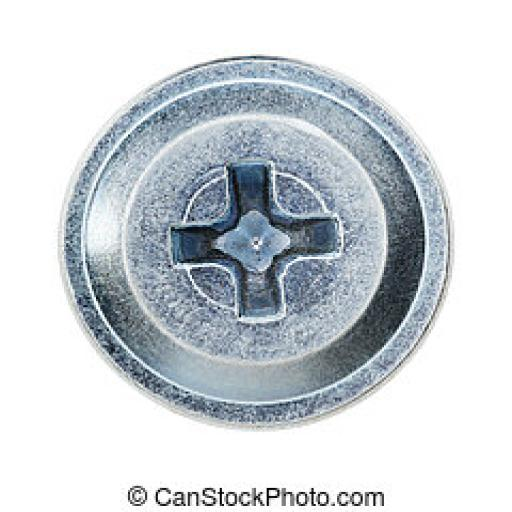Phillips: (50, 52, 451, 430)
